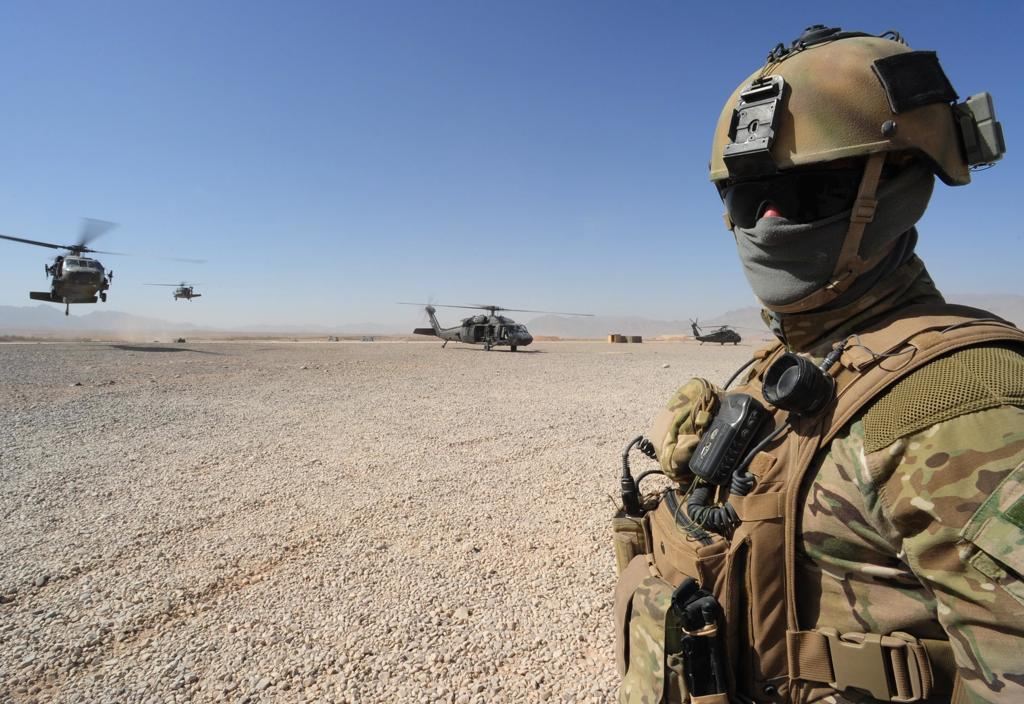face: (727, 123, 873, 303)
